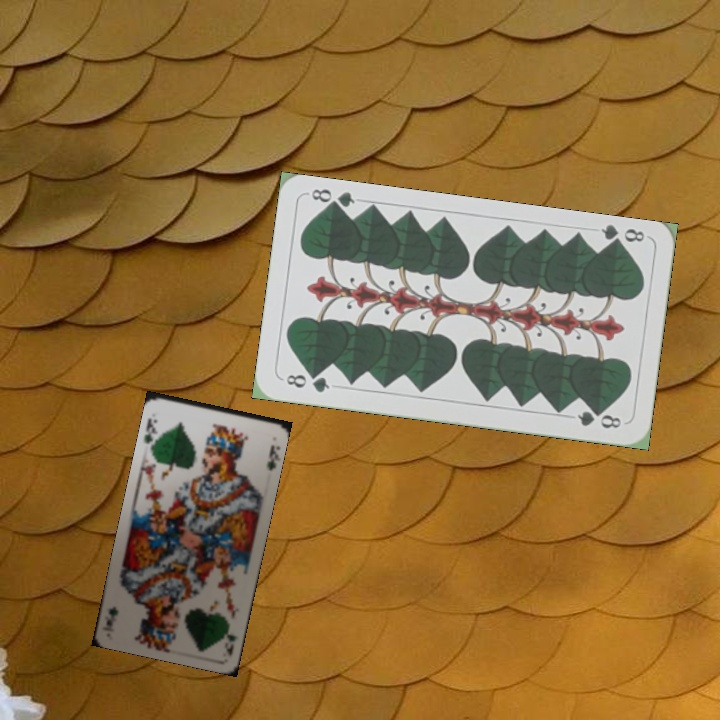G8: (597, 221, 647, 251), (282, 370, 333, 395)
GK: (220, 617, 240, 659), (140, 414, 161, 449)
